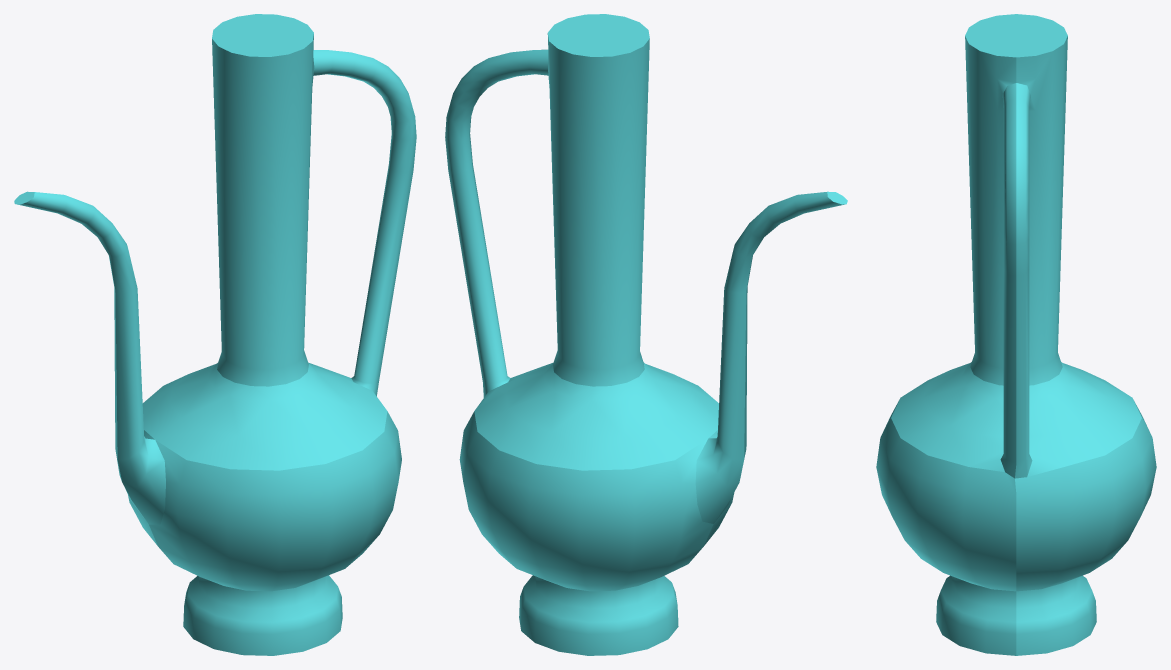
File: SM_Magic_Kettle_Body.fbx
3 views of the same model, side by side, from view 1: azimuth 30°, elevation 25°; view 2: azimuth 150°, elevation 25°; view 3: azimuth 270°, elevation 25° (orthographic).
Visible parts, largest first — view 1: SM_Magic_Kettle_Body; view 2: SM_Magic_Kettle_Body; view 3: SM_Magic_Kettle_Body.
Boxes of the visible parts, x1,y1,x2,y2 form: SM_Magic_Kettle_Body: (14,14,416,655); SM_Magic_Kettle_Body: (445,14,847,655); SM_Magic_Kettle_Body: (876,14,1156,655).
Bounding box in the file's own units: 0.3967 × 0.5552 × 0.2406.
